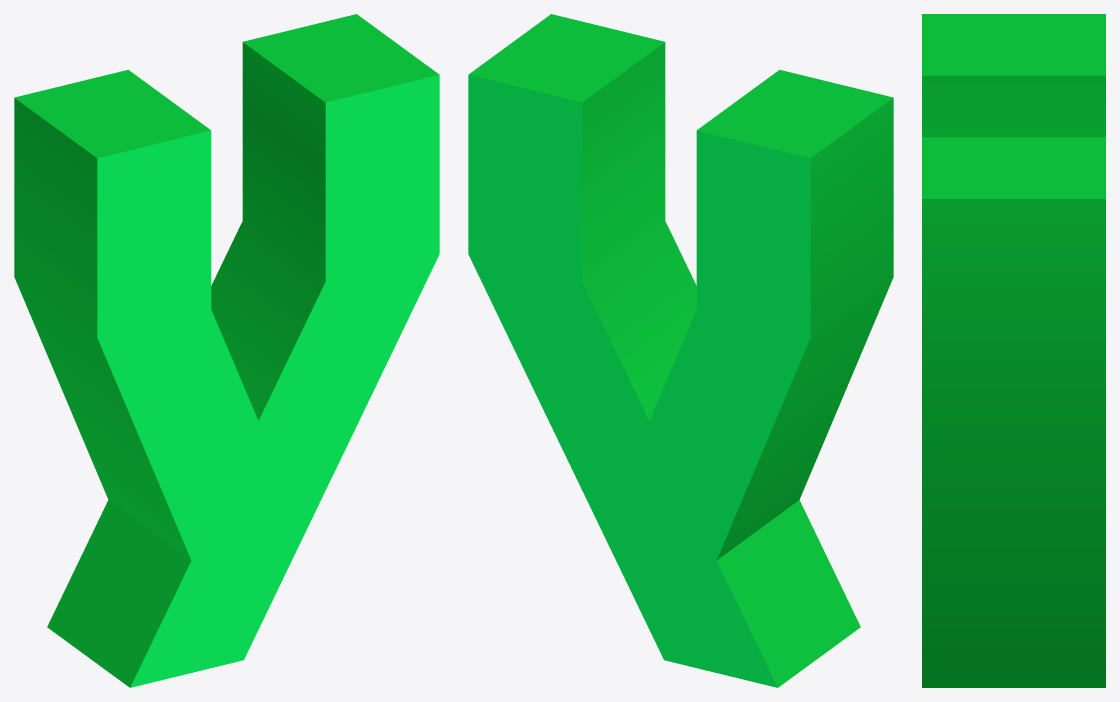
The model's file is Y_DeltaBlock_Green.glb.
3 views of the same model, side by side, from view 1: azimuth 30°, elevation 25°; view 2: azimuth 150°, elevation 25°; view 3: azimuth 270°, elevation 25° (orthographic). The views are drawn at different scales.
Visible parts, largest first — view 1: y_DeltaBlock_Green; view 2: y_DeltaBlock_Green; view 3: y_DeltaBlock_Green.
Part boxes in pixels (x1,y1,x2,y2): y_DeltaBlock_Green: (14,14,439,687); y_DeltaBlock_Green: (468,14,893,687); y_DeltaBlock_Green: (922,14,1105,687).
Size of what is drawn, in the model's own units: 0.1071 by 0.1607 by 0.045.
2 materials, 2 textured.
